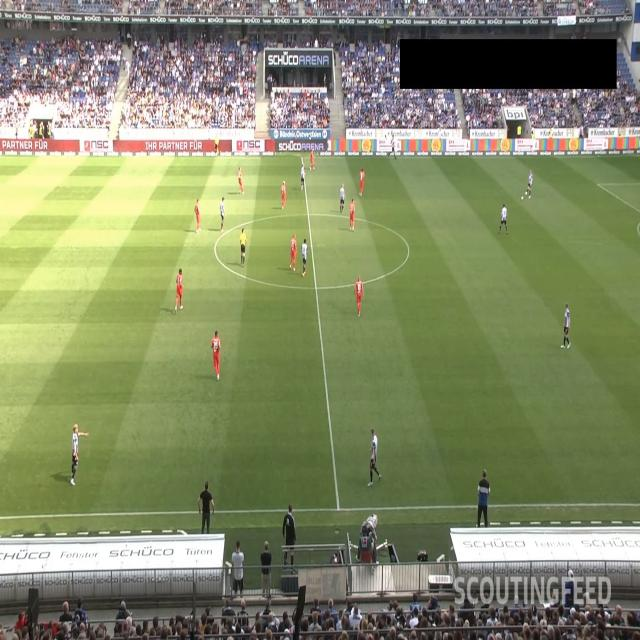ball: (520, 195, 524, 201)
